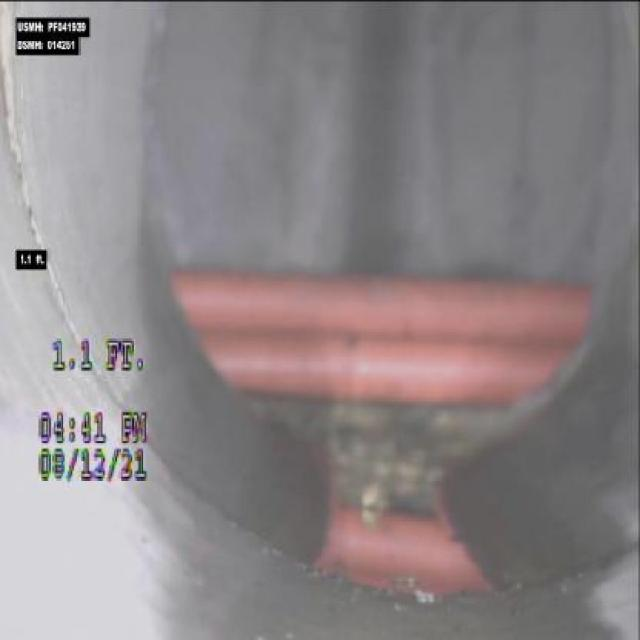Utility intrusion: (162, 260, 592, 408), (247, 492, 616, 602)
